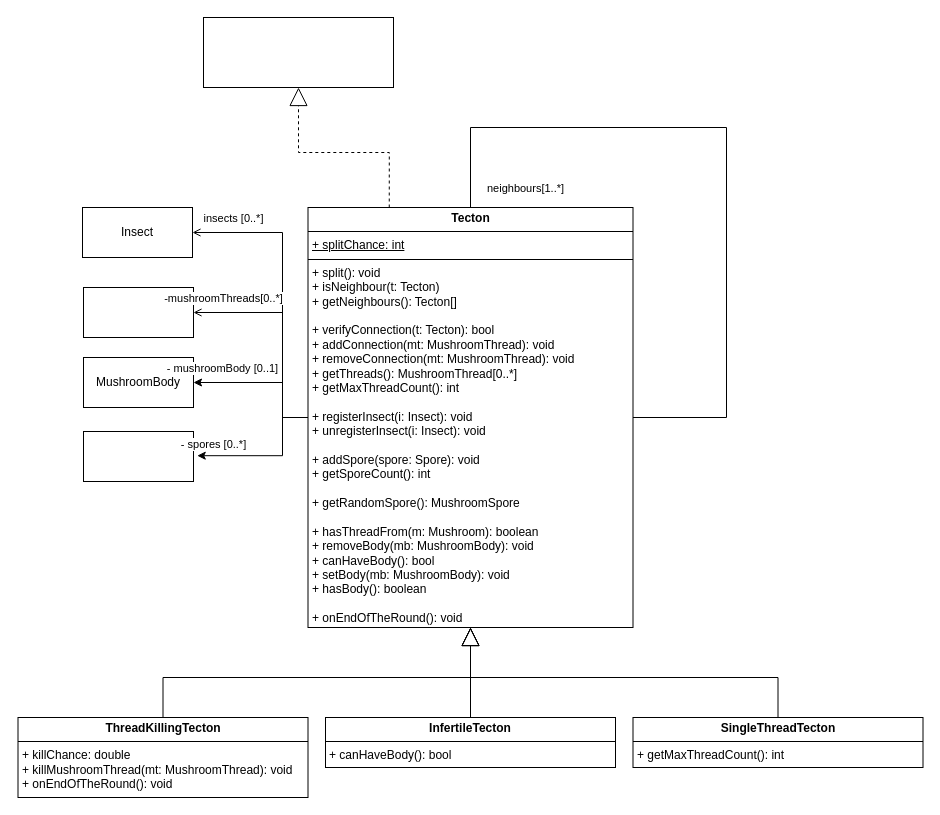
Some shapes in this 940 by 815 pixel diagram are drawn without their labels. Each missing label, with the box of its shape:
<<Interface>> TurnAware + onEndOfTheRound(): void: (202, 16, 394, 88)
MushroomThreads: (82, 286, 194, 338)
Spore: (82, 430, 194, 482)
